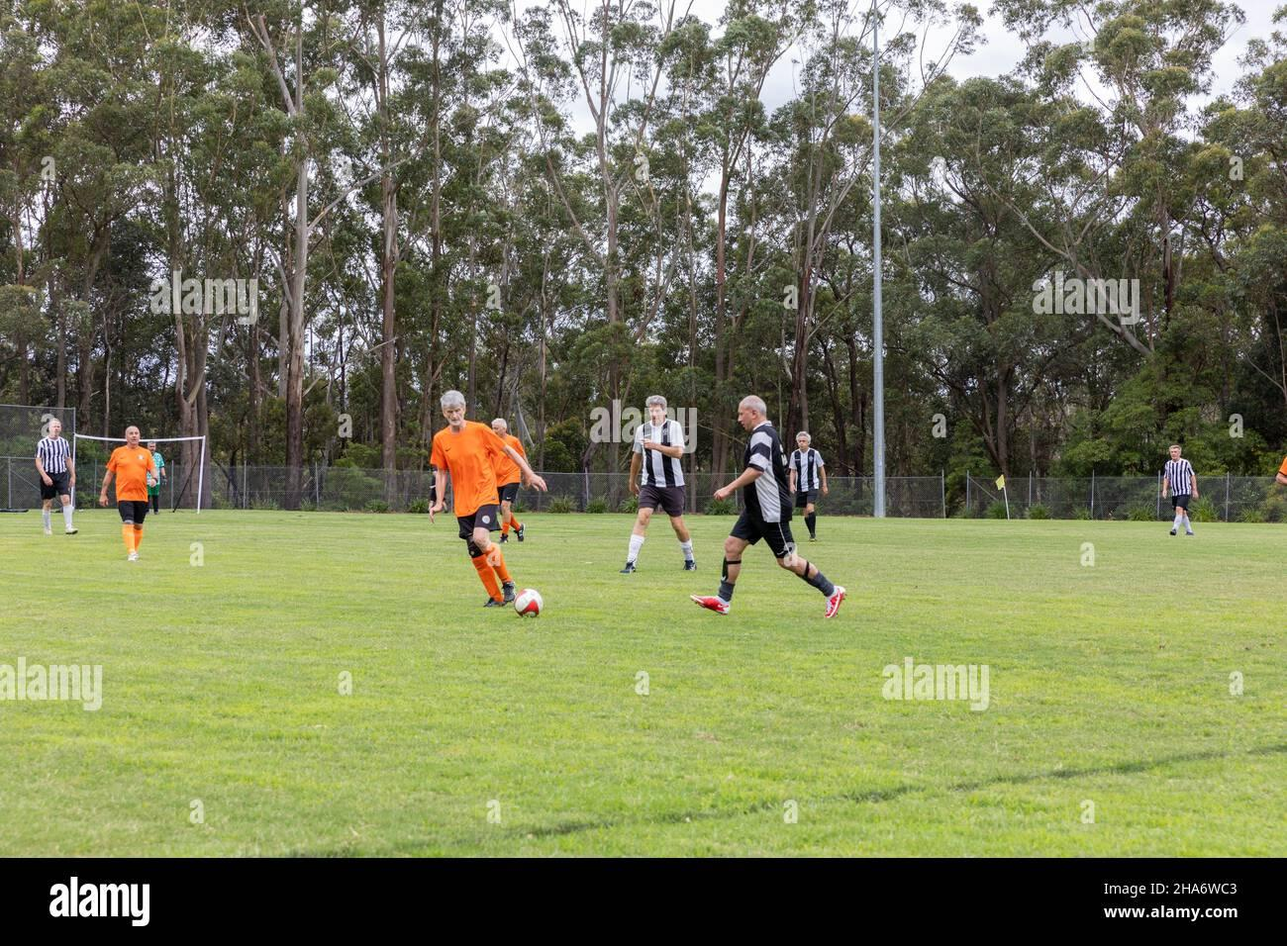ballon_football: (513, 589, 544, 619)
